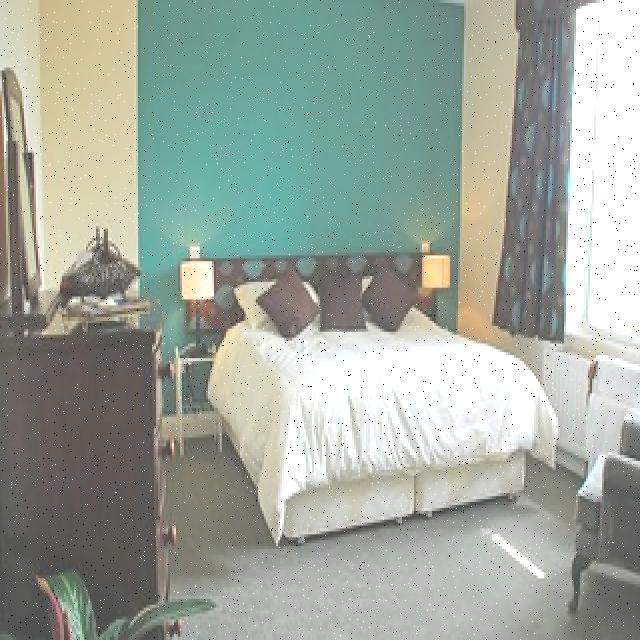bed: (203, 248, 534, 537)
